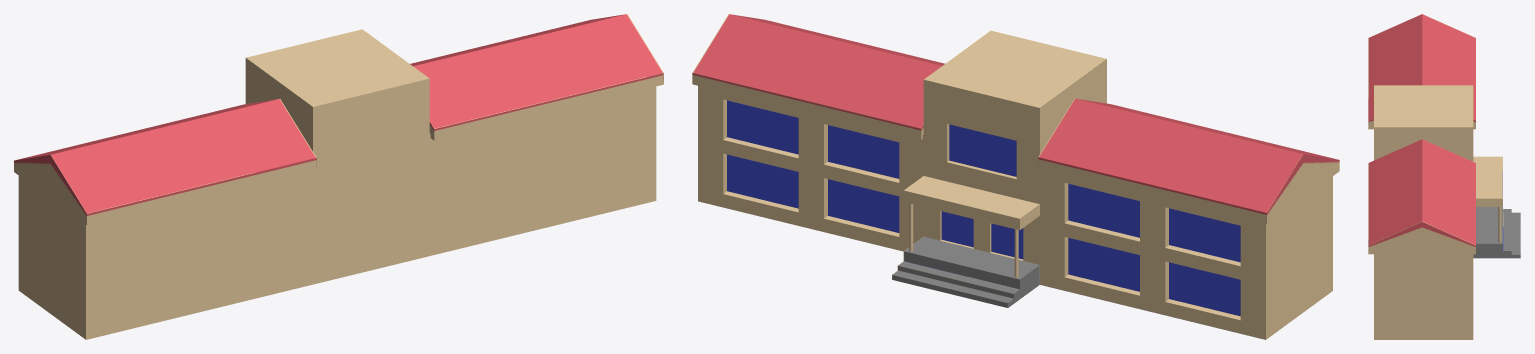
Rendered from tschool.glb.
3 views of the same model, side by side, from view 1: azimuth 30°, elevation 25°; view 2: azimuth 150°, elevation 25°; view 3: azimuth 270°, elevation 25° (orthographic). The views are drawn at different scales.
Visible parts, largest first — view 1: Plane; view 2: Plane; view 3: Plane.
Boxes of the visible parts, box(x1,y1,x2,y2) form: Plane: box(14, 14, 663, 339); Plane: box(692, 14, 1339, 339); Plane: box(1368, 14, 1520, 339).
Bounding box in the file's own units: 9.89 × 2.91 × 3.06.
1 material, 1 textured.
